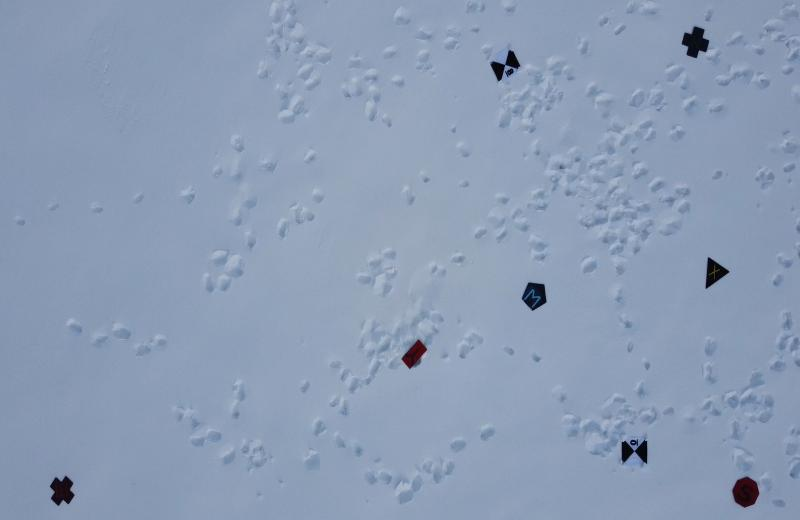Cross: (679, 24, 715, 61), (48, 471, 79, 507)
Octagon: (727, 471, 762, 513)
Pentagon: (518, 280, 550, 316)
Rectangle: (397, 336, 433, 373)
Triangle: (698, 252, 732, 293)
